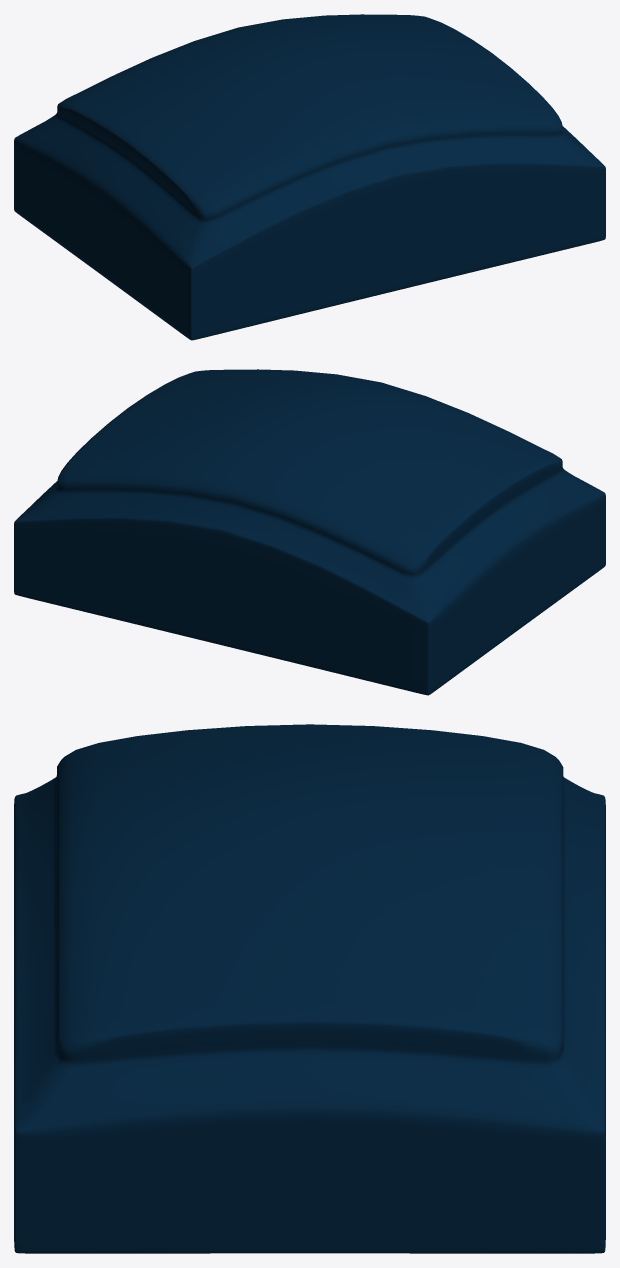
File: maxxair.glb
The picture shows the model from 3 angles, top to bottom: view 1: azimuth 30°, elevation 25°; view 2: azimuth 150°, elevation 25°; view 3: azimuth 270°, elevation 25°; orthographic projection. The views are drawn at different scales.
Parts seen in each view (by area): view 1: maxxair; view 2: maxxair; view 3: maxxair.
Part boxes in pixels (<box>): maxxair: <box>14,14,605,340</box>; maxxair: <box>14,369,605,695</box>; maxxair: <box>14,724,605,1253</box>.
Size of the model in its own units: 0.5871 by 0.2244 by 0.4349.
